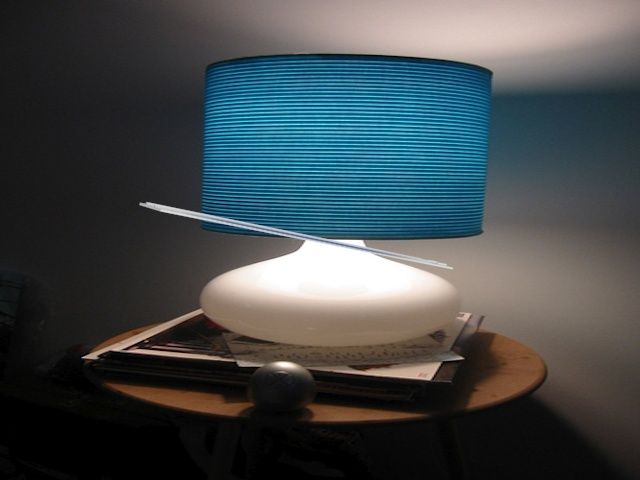ruler: (137, 201, 456, 272)
